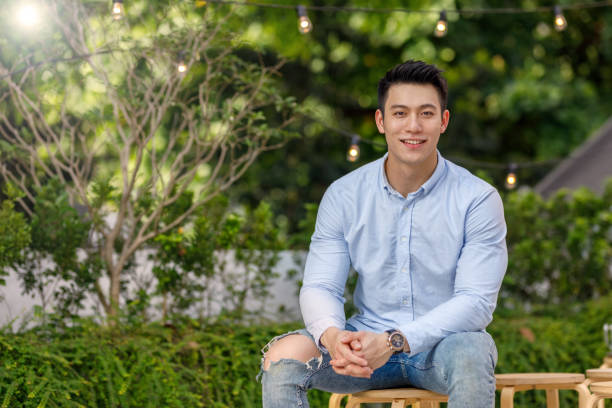person: (375, 62, 450, 168)
